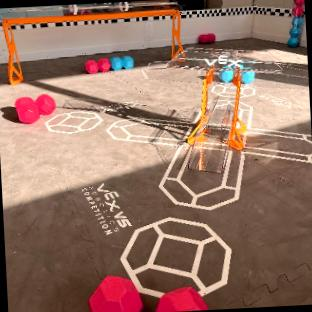Goal: (0, 1, 181, 85)
Med_goal: (147, 47, 308, 150)
V5_BLUE: (110, 56, 132, 68), (241, 70, 254, 82), (220, 69, 233, 80)
V5_RED: (89, 275, 140, 312), (14, 94, 55, 123), (199, 33, 214, 42)
